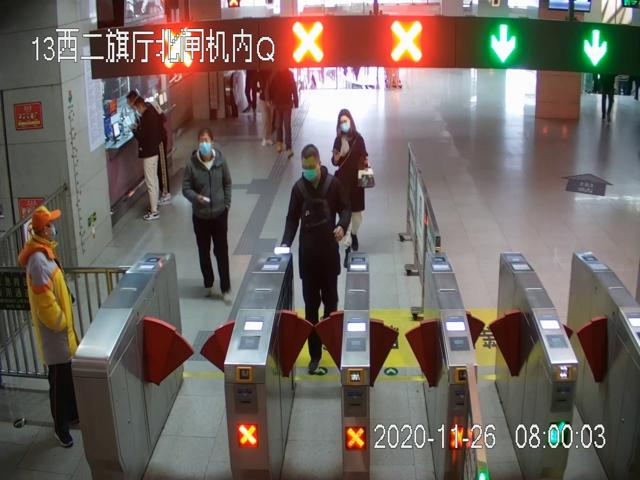person: (19, 204, 87, 448), (289, 142, 343, 376), (184, 130, 241, 304), (328, 109, 373, 268), (125, 89, 173, 208), (133, 99, 161, 223), (271, 62, 298, 157), (257, 60, 278, 152)
